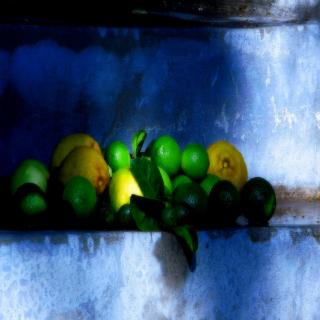Lemon: (5, 131, 280, 226), (152, 134, 221, 192), (104, 143, 132, 169)
Orange: (64, 149, 108, 193), (208, 142, 245, 189), (245, 176, 279, 227), (149, 134, 183, 173), (54, 134, 100, 162), (209, 178, 238, 218), (110, 172, 136, 214), (181, 140, 207, 180), (66, 178, 95, 210), (15, 163, 43, 191), (105, 139, 126, 174), (158, 165, 176, 203), (180, 182, 204, 207), (18, 194, 42, 210), (201, 176, 220, 196), (170, 173, 190, 191)
